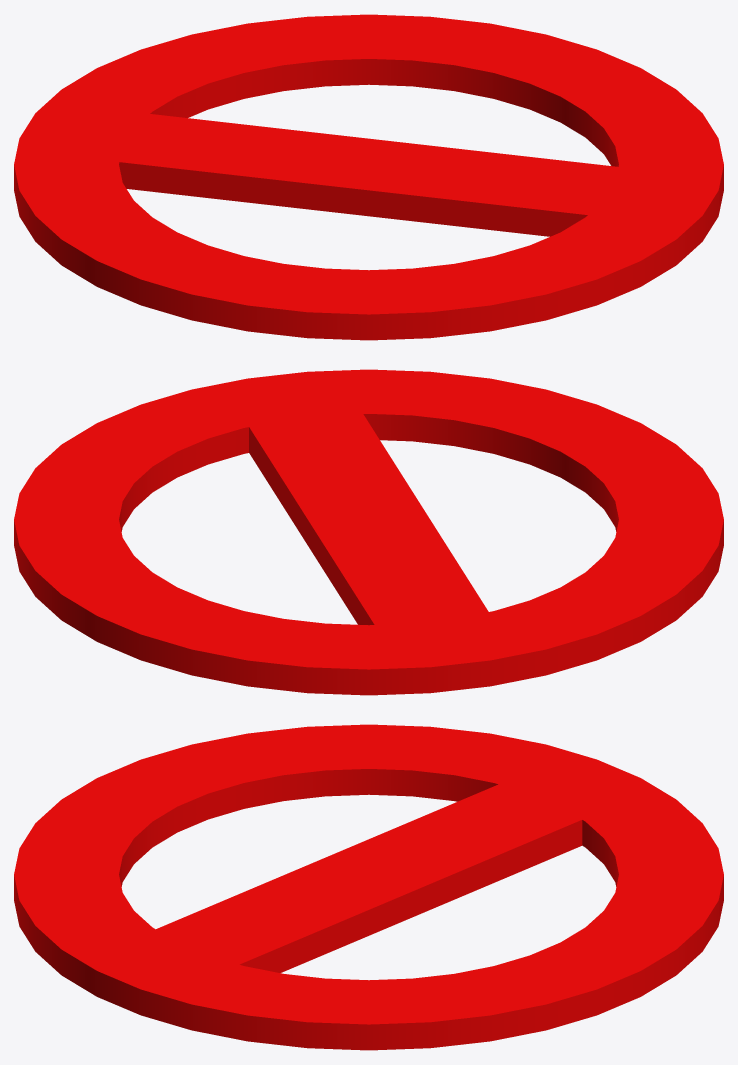
The model's file is access-denied.dae.
The picture shows the model from 3 angles, top to bottom: view 1: azimuth 30°, elevation 25°; view 2: azimuth 150°, elevation 25°; view 3: azimuth 270°, elevation 25°; orthographic projection.
Parts seen in each view (by area): view 1: Tube, Cube; view 2: Tube, Cube; view 3: Tube, Cube.
Part boxes in pixels (left/top/right/bottom): Tube: left=14, top=14, right=723, bottom=340; Cube: left=100, top=111, right=618, bottom=236; Tube: left=14, top=369, right=723, bottom=695; Cube: left=249, top=414, right=493, bottom=632; Tube: left=14, top=724, right=723, bottom=1050; Cube: left=156, top=778, right=595, bottom=972.
Size of the model in its own units: 372 by 15 by 372.
